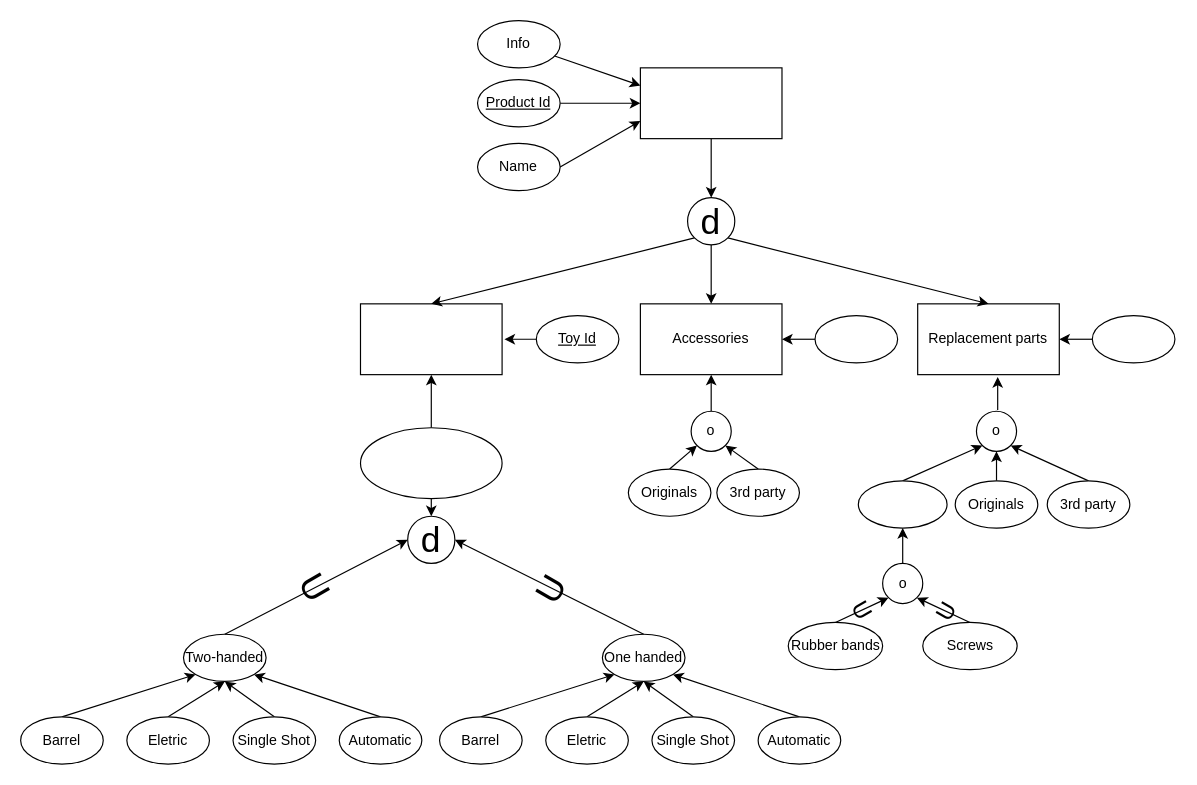
This 1197x785 diagram has some shape labels left out. Here are the shapes that lost their labels. From the top down, the centre of each, then its label:
At point (710, 103): "Product".
At point (430, 339): "Toys".
At point (856, 338): "Accessory Id".
At point (1133, 338): "Parts Id".
At point (430, 463): "Types".
At point (902, 504): "Standard".
